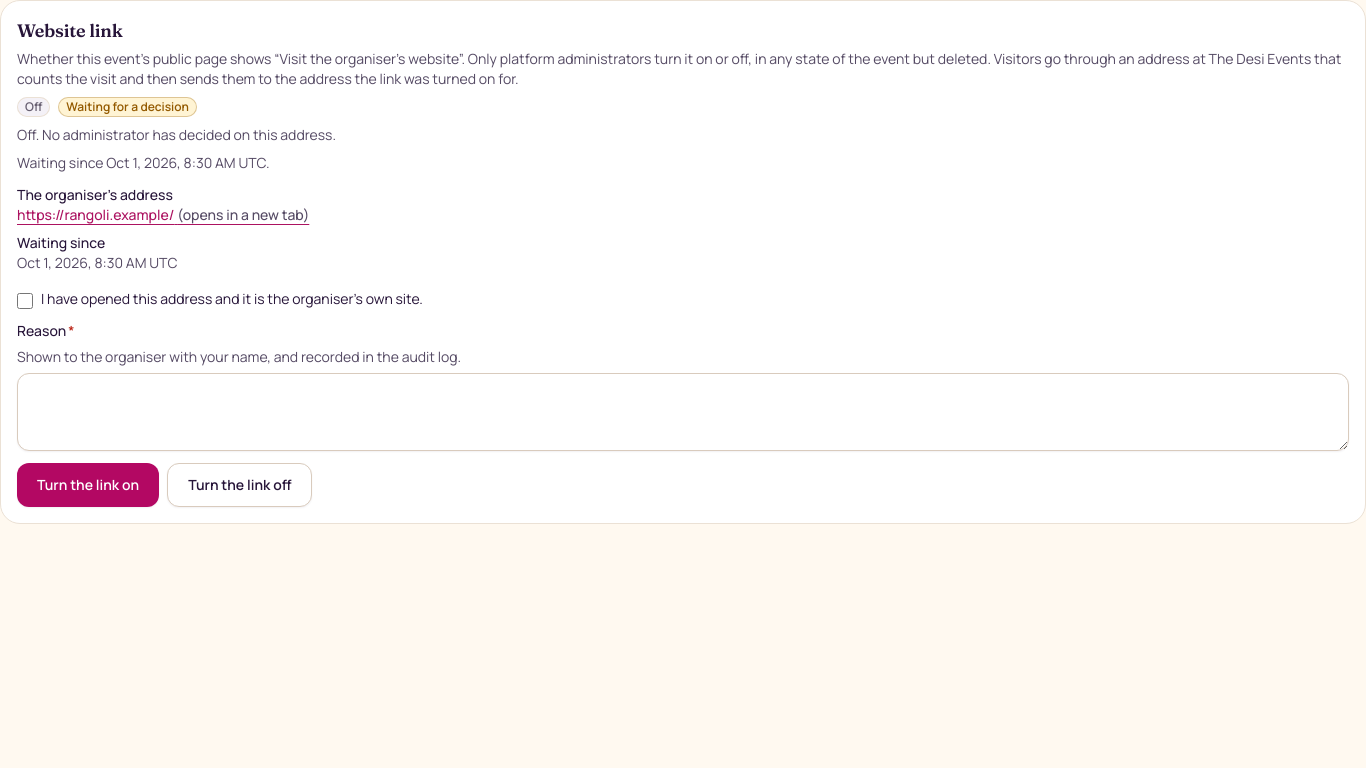
it: the website link panel › asks for the box and a reason before turning a link on, and sends nothing without them
What coordinates should you click on to do the following:
click the button "Turn the link on"
I would click on:
 (88, 485)
Its box is [17,463,159,507].
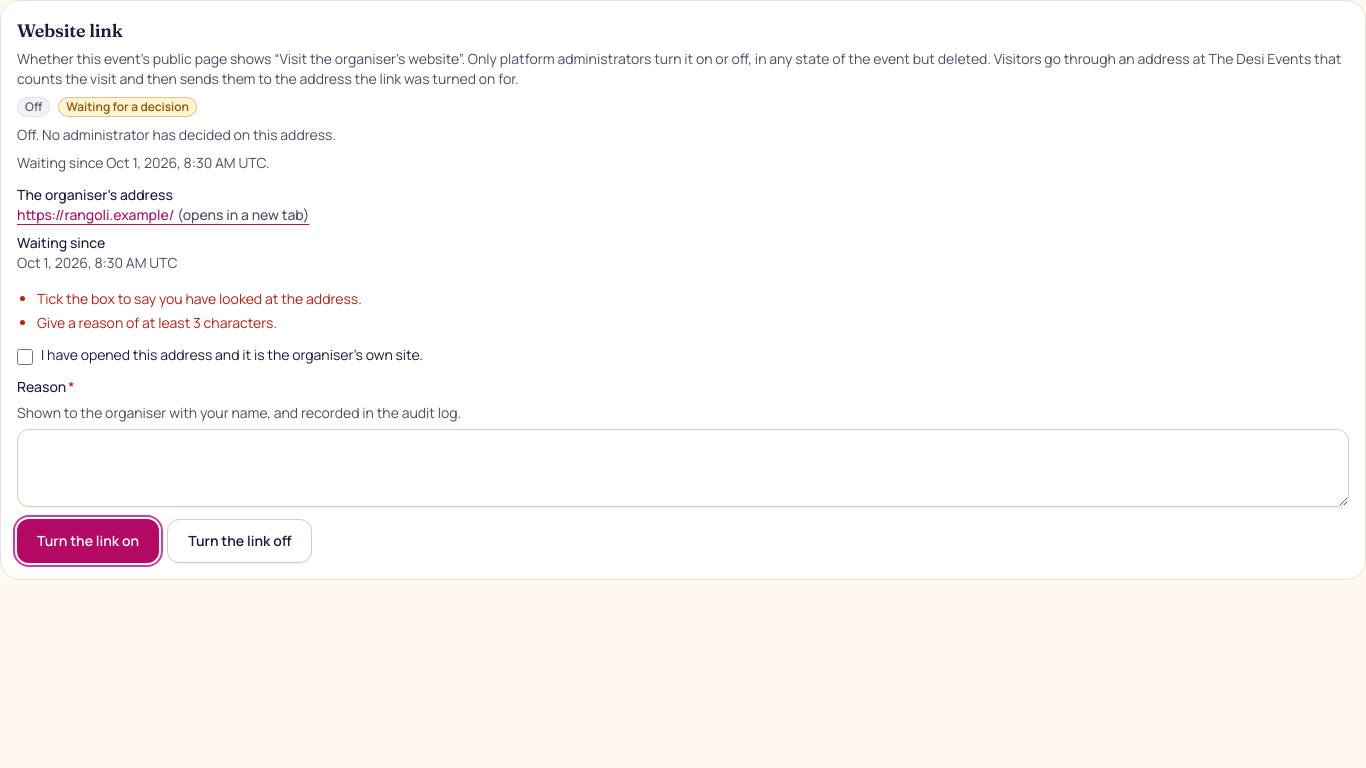
Check: the list item "Tick the box to say you have looked at the address." is shown, box [37,289,362,308]
Check: the list item "Give a reason of at least 3 characters." is shown, box [37,313,277,332]
